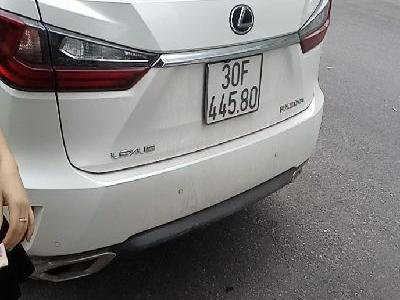car: (206, 53, 264, 125)
